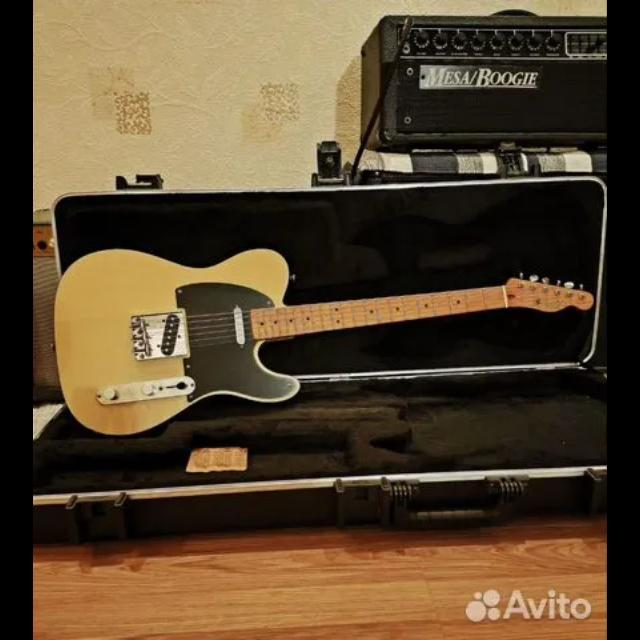Electric-Guitar: (54, 249, 596, 437)
